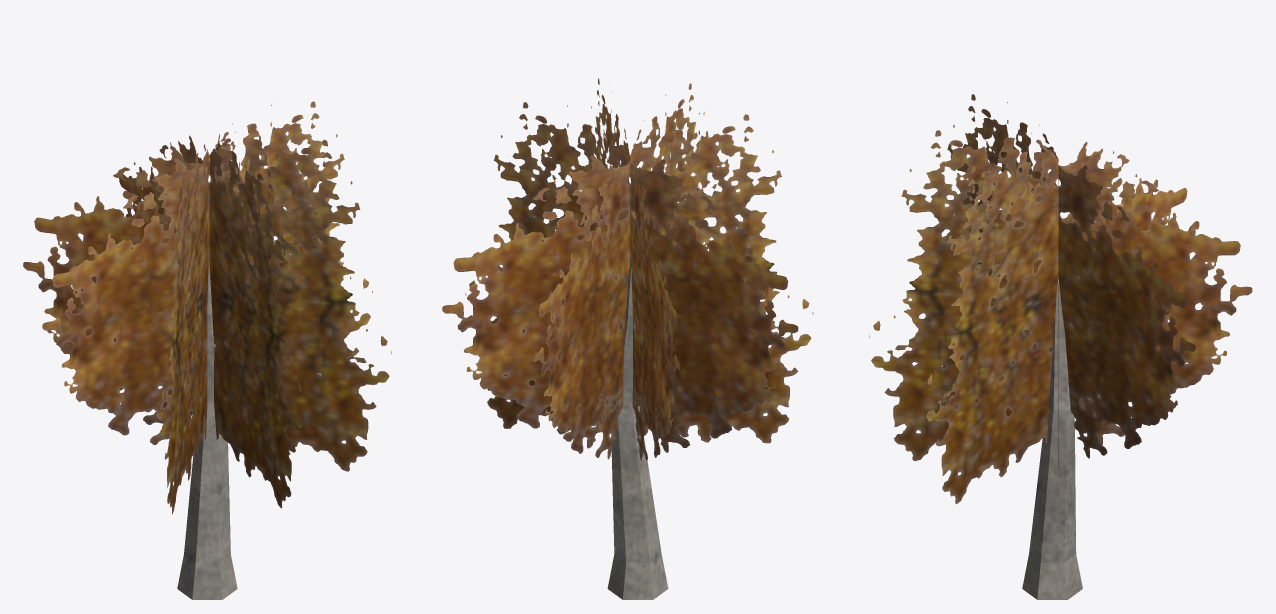
The model's file is Tree2.fbx.
3 views of the same model, side by side, from view 1: azimuth 30°, elevation 25°; view 2: azimuth 150°, elevation 25°; view 3: azimuth 270°, elevation 25° (orthographic).
Parts seen in each view (by area): view 1: Plane.012, Plane.011, Plane.014, Plane.013, Tree2; view 2: Plane.013, Plane.011, Plane.014, Plane.012, Tree2; view 3: Plane.012, Plane.014, Plane.013, Tree2.
Part boxes in pixels (<box>): Plane.012: <box>23,127,391,471</box>; Plane.011: <box>42,98,372,453</box>; Plane.014: <box>119,135,303,508</box>; Plane.013: <box>160,134,239,514</box>; Tree2: <box>177,265,237,599</box>; Plane.013: <box>442,107,813,448</box>; Plane.011: <box>465,102,798,456</box>; Plane.014: <box>532,83,708,459</box>; Plane.012: <box>589,78,680,460</box>; Tree2: <box>607,260,668,599</box>; Plane.012: <box>924,140,1195,504</box>; Plane.014: <box>869,123,1252,460</box>; Plane.013: <box>941,94,1195,458</box>; Tree2: <box>1022,276,1082,599</box>.
Size of the model in its own units: 1122 by 1496 by 1122.
